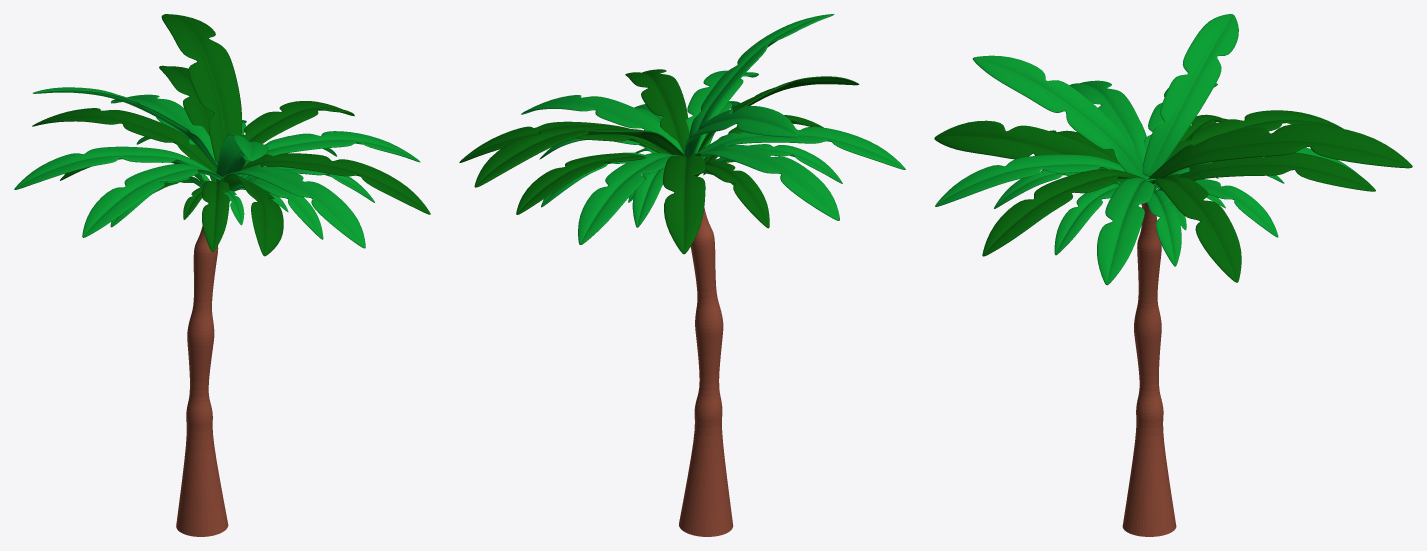
Rendered from coconut tree.fbx.
3 renders of one model, left to right at view 1: azimuth 30°, elevation 25°; view 2: azimuth 150°, elevation 25°; view 3: azimuth 270°, elevation 25°, orthographic. The views are drawn at different scales.
Parts seen in each view (by area): view 1: Plane.003, Vert; view 2: Plane.003, Vert; view 3: Plane.003, Vert.
Boxes of the visible parts, x1,y1,x2,y2 form: Plane.003: [14, 14, 430, 256]; Vert: [176, 181, 228, 536]; Plane.003: [459, 14, 905, 254]; Vert: [679, 208, 733, 536]; Plane.003: [934, 14, 1412, 285]; Vert: [1122, 190, 1176, 536].
Bounding box in the file's own units: 1902 × 2251 × 2152.
